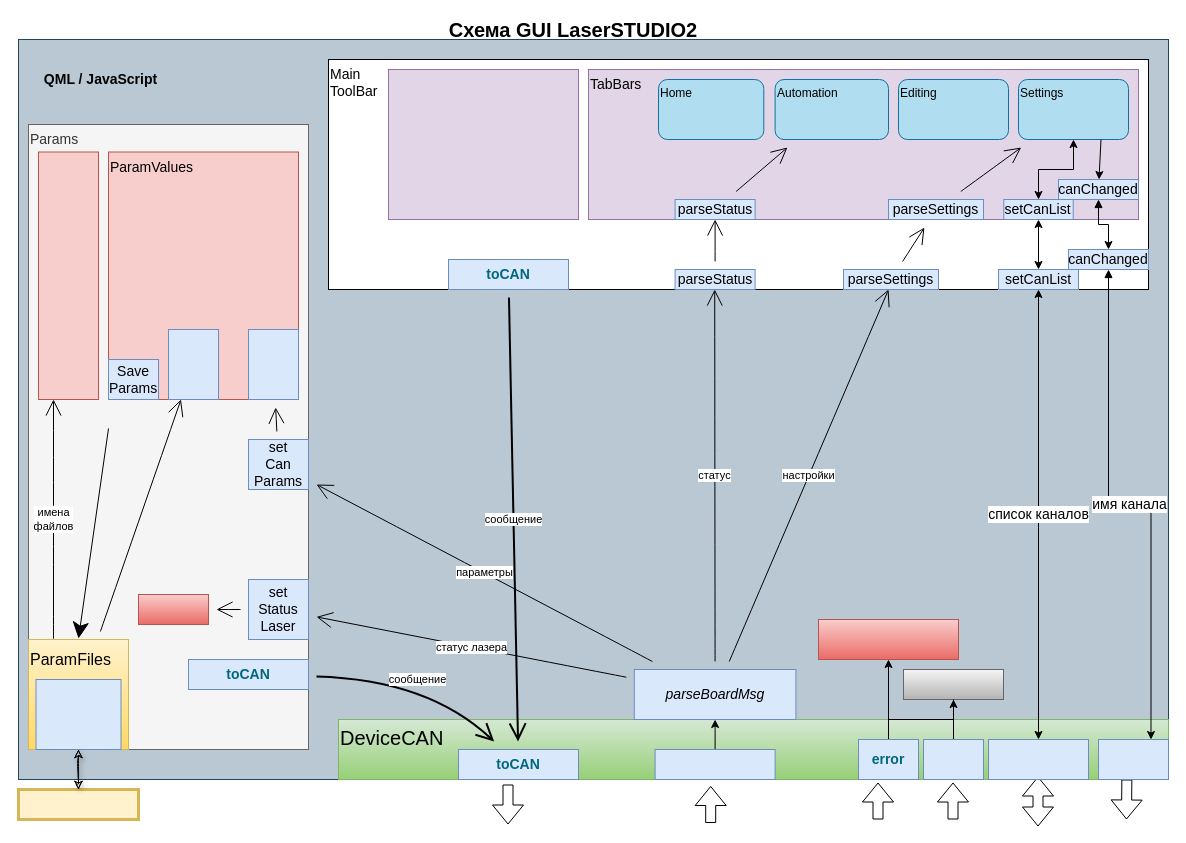
This 1186x843 diagram has some shape labels left out. Each missing label, with the centre of its shape:
"change Channel" goes at pixel 1133 759.
"channel Started" goes at pixel 953 759.
"ChannelsInfo openChannel" goes at pixel 1038 759.
"getSetNames , getSet saveSet, removeSet" goes at pixel 78 714.
"GlobalButtons" goes at pixel 483 144.
"newMSG" goes at pixel 714 764.
"Param Sets" goes at pixel 68 275.
"paramfiles.h" goes at pixel 78 804.
"set From Can Params" goes at pixel 273 364.
"set From File Params" goes at pixel 193 364.
"включите лазер" goes at pixel 173 609.
"вывод в лог" goes at pixel 953 684.
"предупреждающее сообщение" goes at pixel 888 639.
